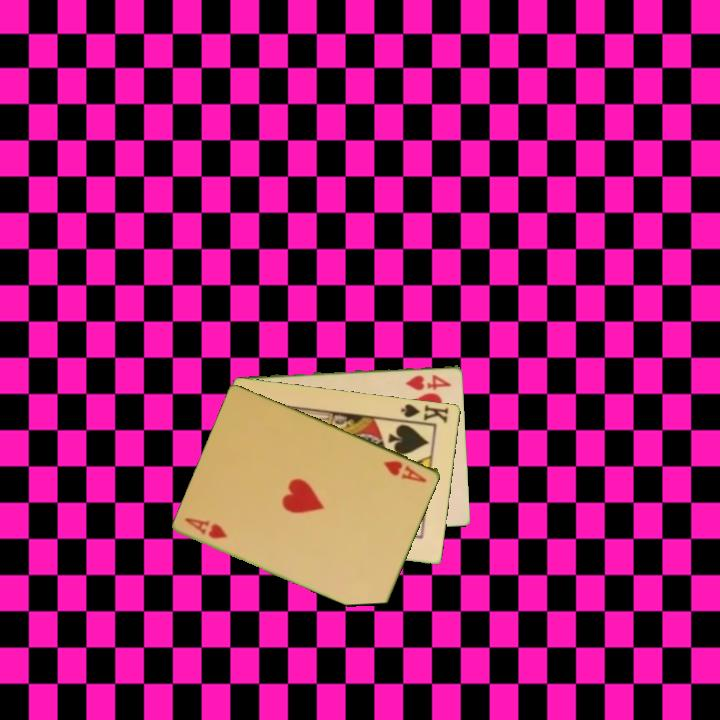4h: (402, 371, 454, 392)
Ah: (381, 457, 430, 485), (182, 514, 231, 542)
Ks: (398, 400, 452, 426)
